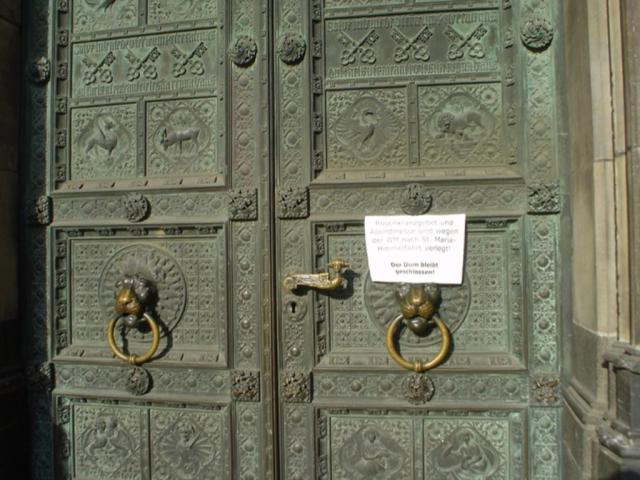Door-handle: (384, 280, 458, 376), (101, 265, 162, 366), (280, 260, 350, 295)
